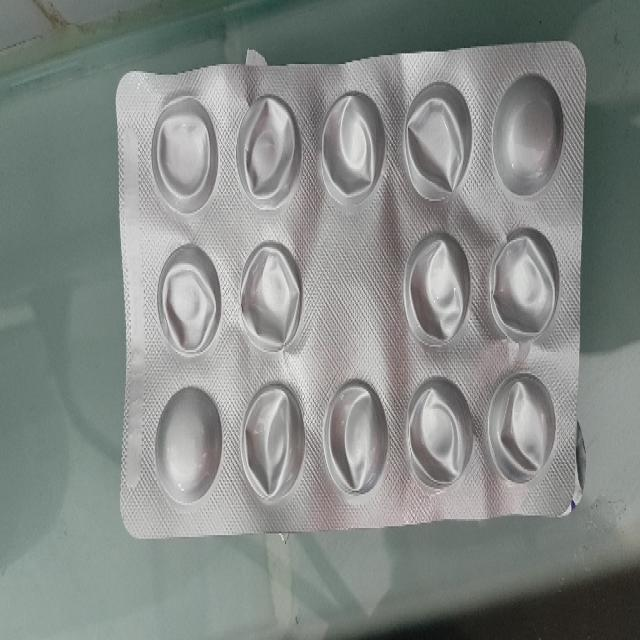Empty: (233, 375, 310, 510), (402, 370, 477, 505), (400, 73, 474, 208), (234, 236, 314, 358), (484, 226, 562, 350), (398, 224, 471, 354), (319, 373, 391, 503), (146, 89, 218, 217), (486, 370, 561, 490), (317, 87, 390, 208), (151, 240, 222, 364), (233, 91, 303, 213)
Pill: (152, 377, 227, 517), (490, 69, 567, 203)
